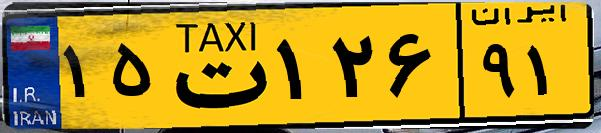1: (270, 28, 330, 110), (57, 26, 110, 100), (525, 38, 570, 115)
2: (330, 28, 385, 110)
5: (110, 28, 158, 98)
6: (385, 28, 445, 110)
9: (475, 38, 525, 113)
ت: (158, 12, 270, 120)
